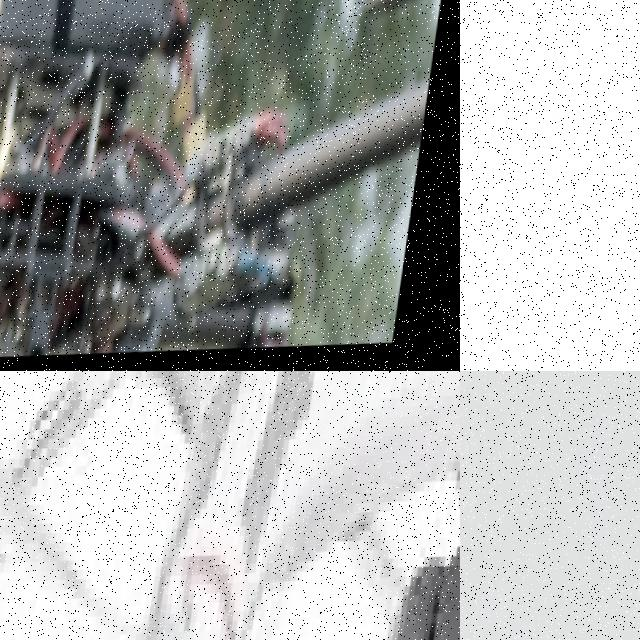drone: (0, 0, 460, 371), (0, 371, 460, 640)
